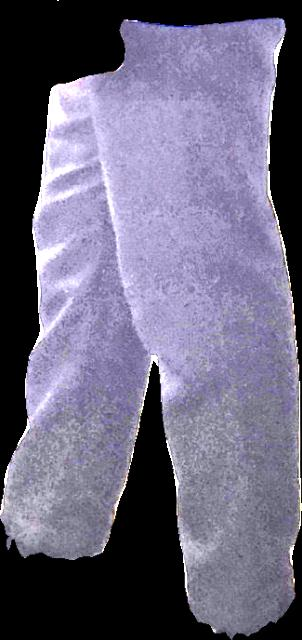blackpants: (0, 18, 301, 639)
